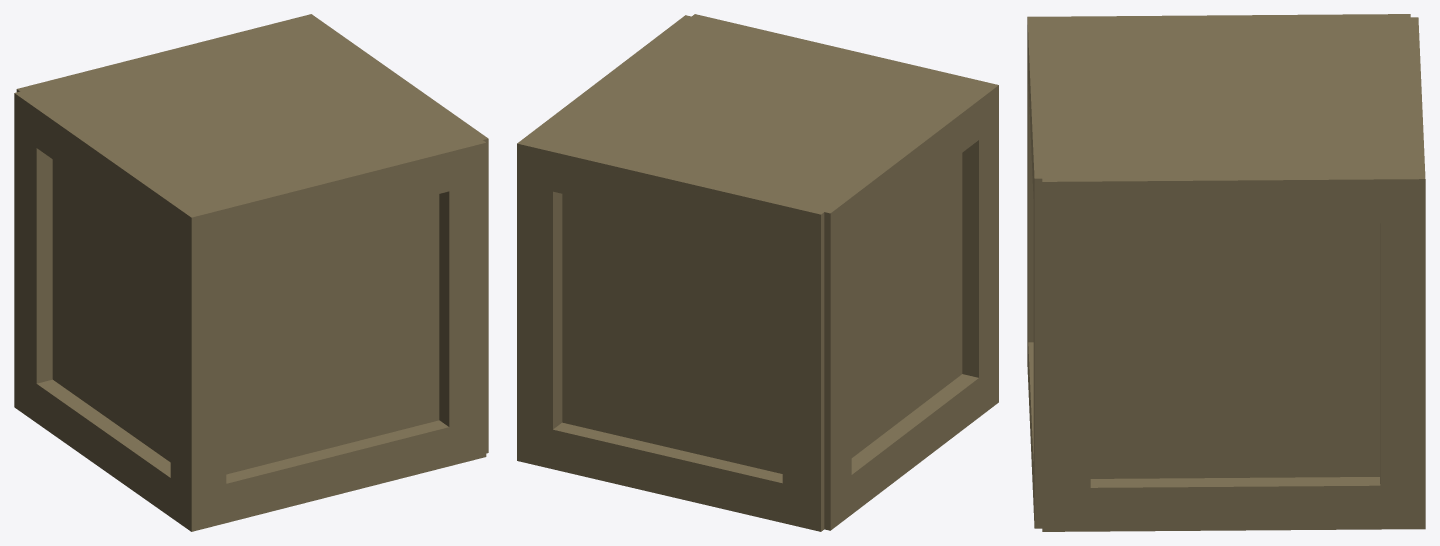
The model's file is WoodCrate.fbx.
3 views of the same model, side by side, from view 1: azimuth 30°, elevation 25°; view 2: azimuth 150°, elevation 25°; view 3: azimuth 270°, elevation 25° (orthographic). The views are drawn at different scales.
Visible parts, largest first — view 1: Cube; view 2: Cube; view 3: Cube.
Boxes of the visible parts, x1=… form: Cube: x1=14, y1=14, x2=488, y2=531; Cube: x1=517, y1=14, x2=998, y2=531; Cube: x1=1027, y1=14, x2=1425, y2=531.
Bounding box in the file's own units: 206 × 200 × 206.
